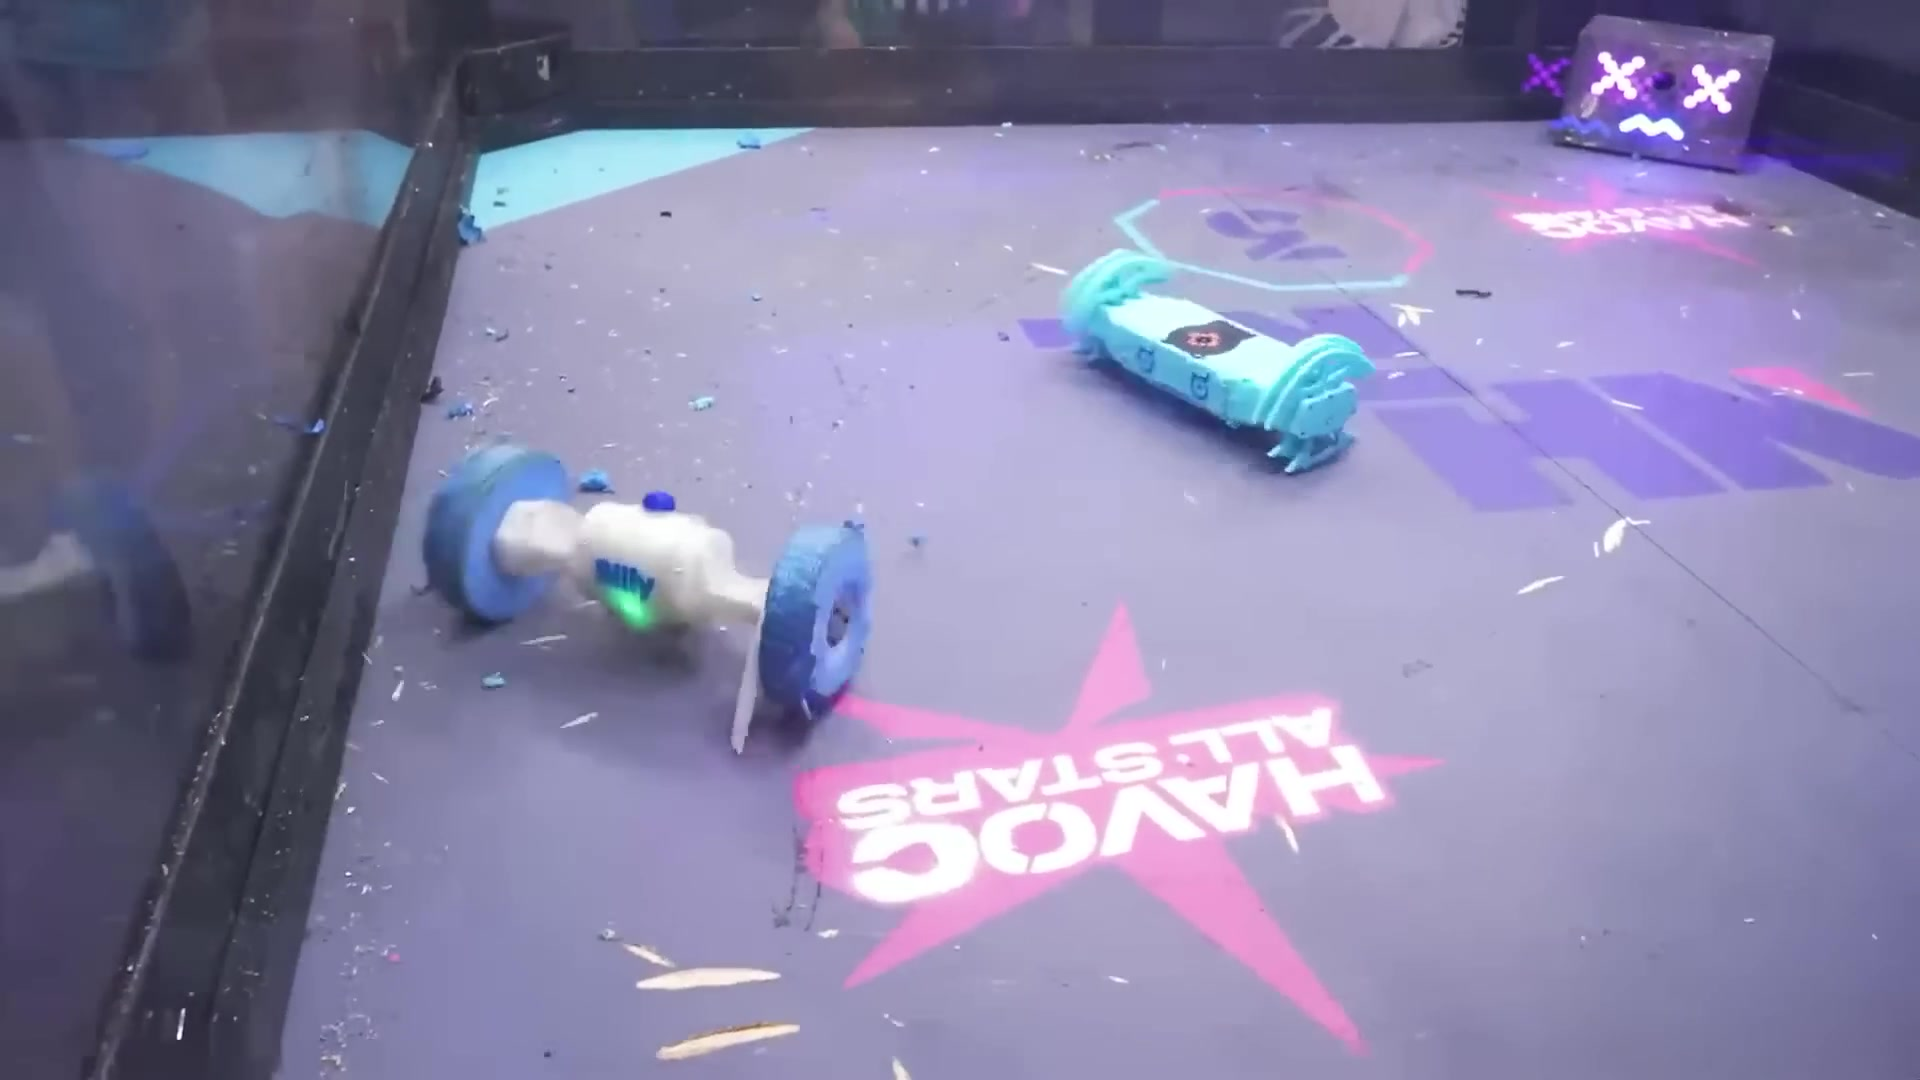combatbot: (425, 440, 870, 752), (1050, 248, 1371, 473)
housebot: (1557, 13, 1772, 173)
